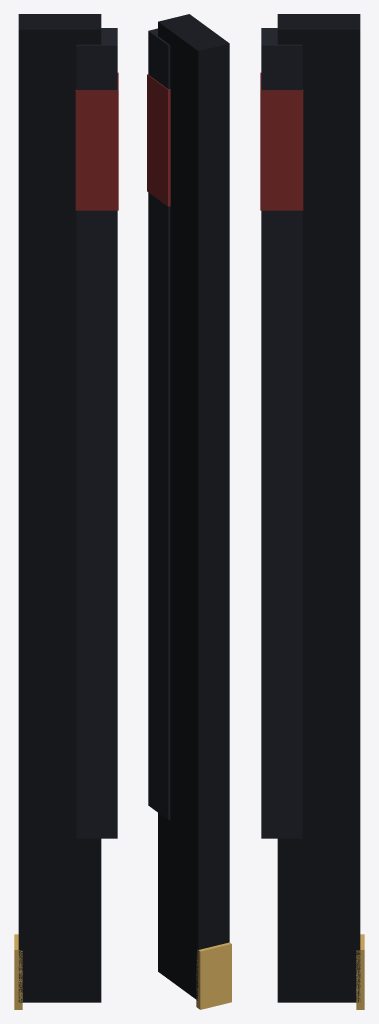
The model's file is ram-ddr4.glb.
3 renders of one model, left to right at view 1: azimuth 90°, elevation 25°; view 2: azimuth 210°, elevation 25°; view 3: azimuth 270°, elevation 25°, orthographic. The views are drawn at different scales.
Parts seen in each view (by area): view 1: PCB, Disipador, Acento, Contactos; view 2: PCB, Disipador, Acento, Contactos; view 3: PCB, Disipador, Acento, Contactos.
Part boxes in pixels (left/top/right/bottom): PCB: left=18, top=14, right=101, bottom=1002; Disipador: left=76, top=28, right=117, bottom=838; Acento: left=75, top=72, right=118, bottom=210; Contactos: left=14, top=934, right=22, bottom=1009; PCB: left=158, top=14, right=229, bottom=1000; Disipador: left=148, top=28, right=170, bottom=819; Acento: left=147, top=74, right=170, bottom=206; Contactos: left=196, top=942, right=231, bottom=1009; PCB: left=277, top=14, right=360, bottom=1002; Disipador: left=261, top=28, right=302, bottom=838; Acento: left=260, top=72, right=303, bottom=210; Contactos: left=356, top=934, right=364, bottom=1009.
Bounding box in the file's own units: 0.52 × 13.1 × 1.26.
